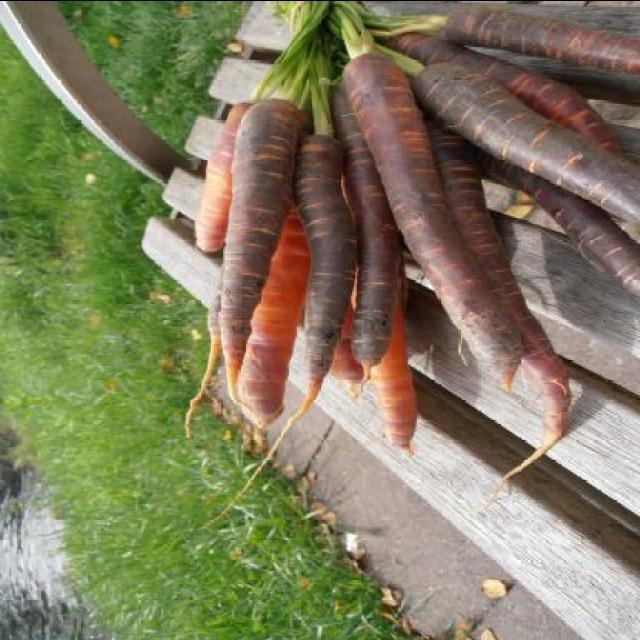Carrot: (179, 46, 610, 502)
